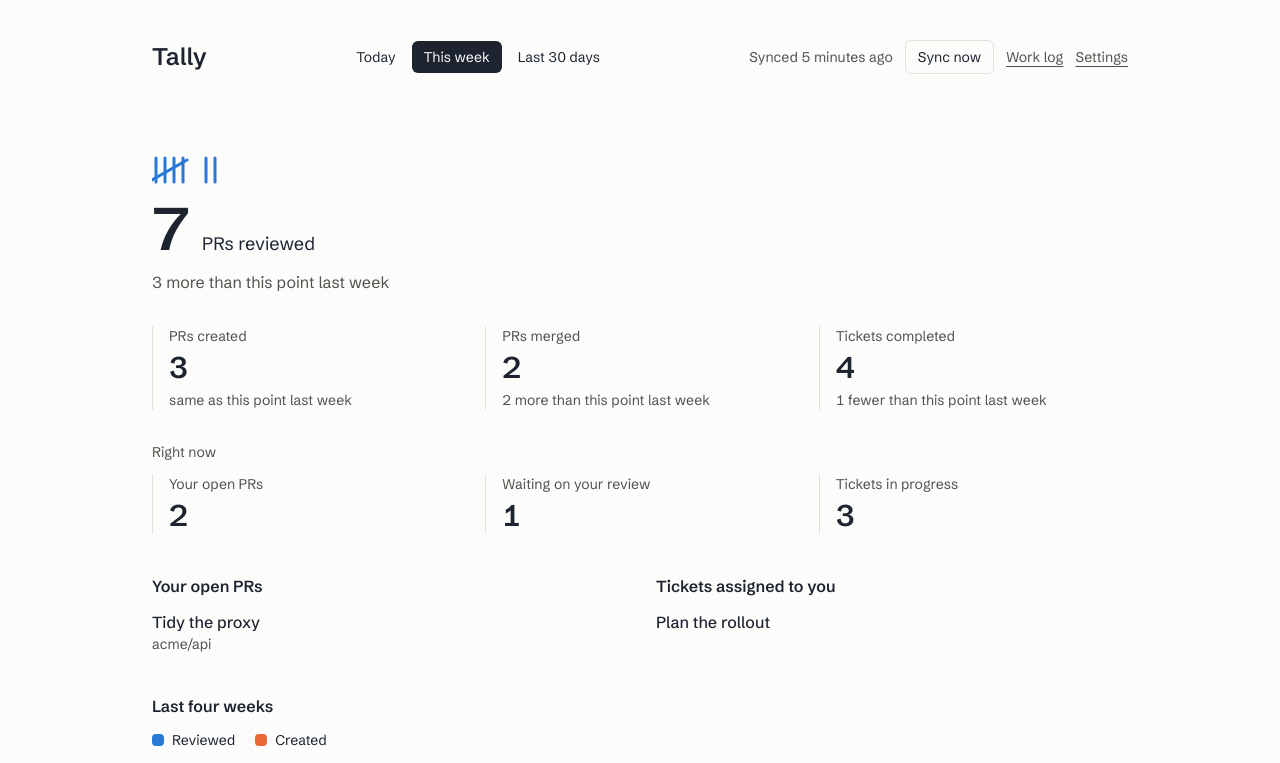
Test: Dashboard › syncs on demand and reports which source failed
This screenshot has width=1280, height=763.
expect the picture named "7 PRs reviewed" is shown: met, box [152, 154, 224, 186]
Step 1. Click the button "Sync now" → (949, 57), box [905, 40, 994, 74]
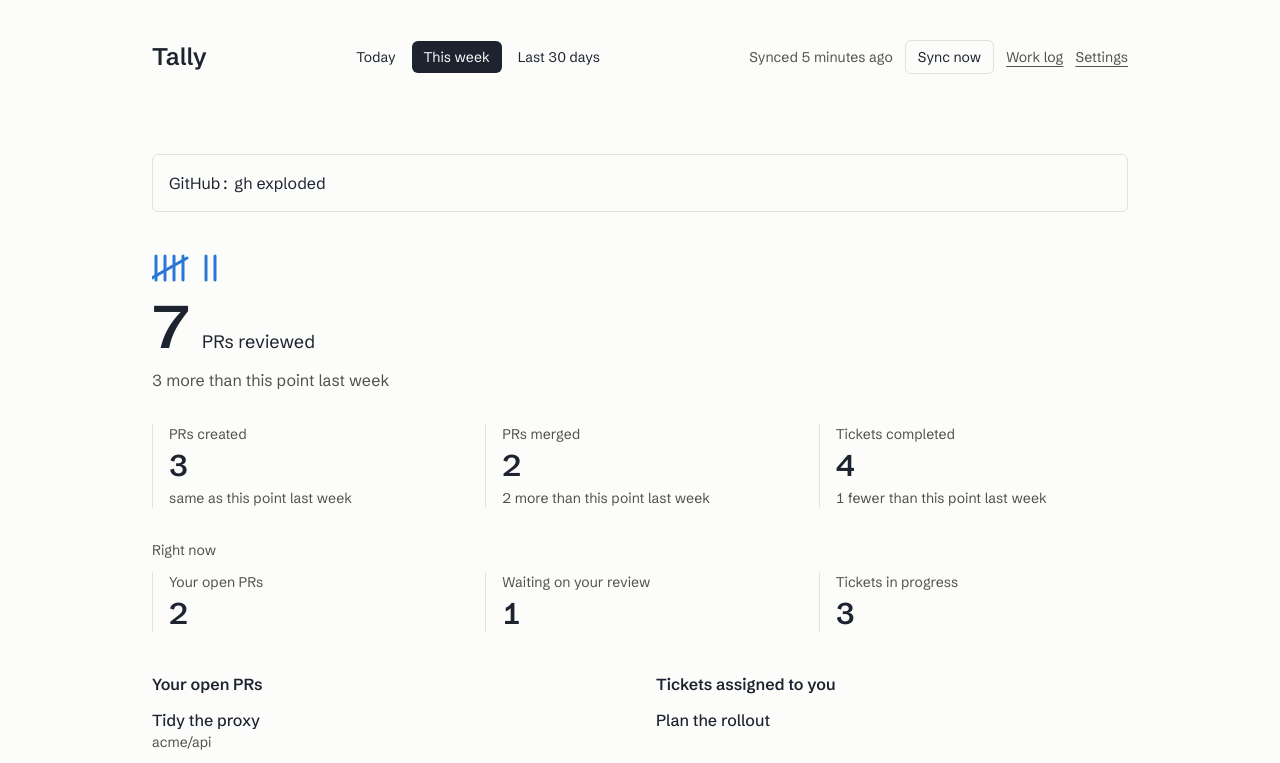
expect the message reads "GitHub: gh exploded": met, box [169, 173, 326, 193]
